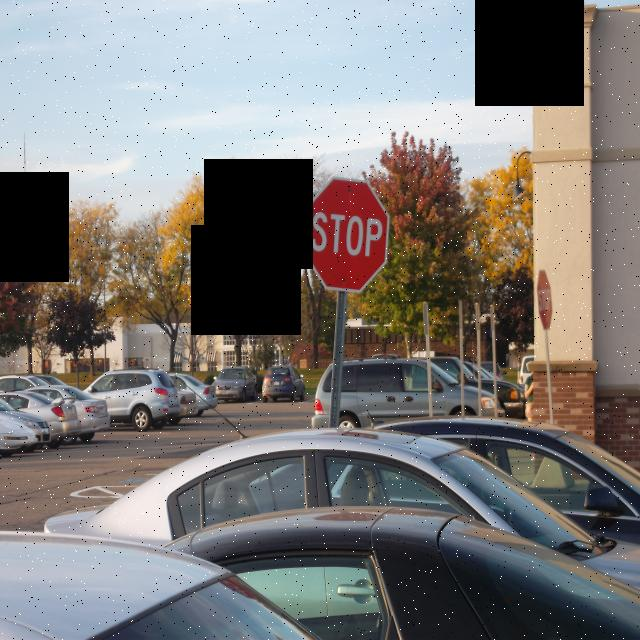stop: (301, 169, 393, 299), (525, 261, 560, 336)
